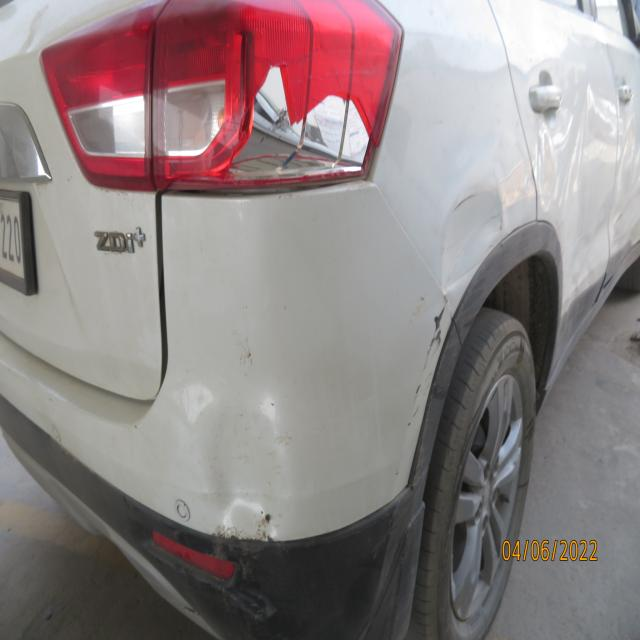damage: (201, 62, 380, 195), (436, 170, 519, 288), (406, 292, 453, 430), (208, 488, 287, 551), (217, 573, 282, 628), (173, 376, 216, 426), (261, 392, 285, 424)
